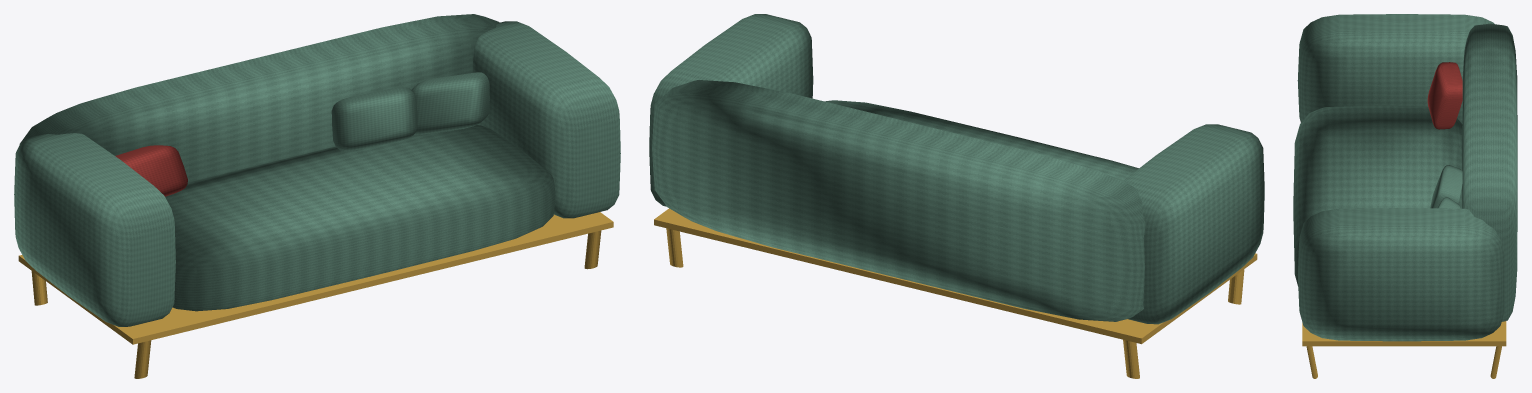
3 views of the same model, side by side, from view 1: azimuth 30°, elevation 25°; view 2: azimuth 150°, elevation 25°; view 3: azimuth 270°, elevation 25° (orthographic). The views are drawn at different scales.
Parts seen in each view (by area): view 1: 6 seat, 7 backrest, 8 left_armrest, 9 right_armrest, 1 gold_base_frame, 11 toss_pillow_green_1, 12 toss_pillow_green_2, 10 toss_pillow_red, 2 leg_front_left, 3 leg_front_right; view 2: 7 backrest, 8 left_armrest, 9 right_armrest, 1 gold_base_frame, 6 seat, 5 leg_back_right, 4 leg_back_left; view 3: 9 right_armrest, 6 seat, 8 left_armrest, 7 backrest, 10 toss_pillow_red, 1 gold_base_frame, 11 toss_pillow_green_1, 3 leg_front_right, 5 leg_back_right.
Boxes of the visible parts, bbox=[...] form: 6 seat: bbox=[165, 125, 555, 311]; 7 backrest: bbox=[19, 14, 499, 182]; 8 left_armrest: bbox=[14, 133, 175, 326]; 9 right_armrest: bbox=[473, 21, 620, 218]; 1 gold_base_frame: bbox=[18, 212, 613, 344]; 11 toss_pillow_green_1: bbox=[331, 87, 417, 150]; 12 toss_pillow_green_2: bbox=[411, 72, 489, 134]; 10 toss_pillow_red: bbox=[115, 145, 187, 196]; 2 leg_front_left: bbox=[134, 340, 151, 378]; 3 leg_front_right: bbox=[584, 230, 601, 269]; 7 backrest: bbox=[652, 80, 1145, 321]; 8 left_armrest: bbox=[1123, 124, 1264, 324]; 9 right_armrest: bbox=[649, 14, 813, 206]; 1 gold_base_frame: bbox=[654, 208, 1257, 344]; 6 seat: bbox=[825, 100, 1138, 180]; 5 leg_back_right: bbox=[666, 228, 683, 267]; 4 leg_back_left: bbox=[1123, 339, 1139, 378]; 9 right_armrest: bbox=[1297, 208, 1504, 341]; 6 seat: bbox=[1293, 105, 1462, 286]; 8 left_armrest: bbox=[1297, 14, 1494, 124]; 7 backrest: bbox=[1462, 23, 1517, 321]; 10 toss_pillow_red: bbox=[1427, 62, 1462, 129]; 1 gold_base_frame: bbox=[1302, 321, 1506, 346]; 11 toss_pillow_green_1: bbox=[1430, 165, 1462, 208]; 3 leg_front_right: bbox=[1306, 346, 1317, 378]; 5 leg_back_right: bbox=[1490, 346, 1501, 378].
Bounding box in the file's own units: 2 × 0.701 × 0.8509.
3 materials, 2 textured.
